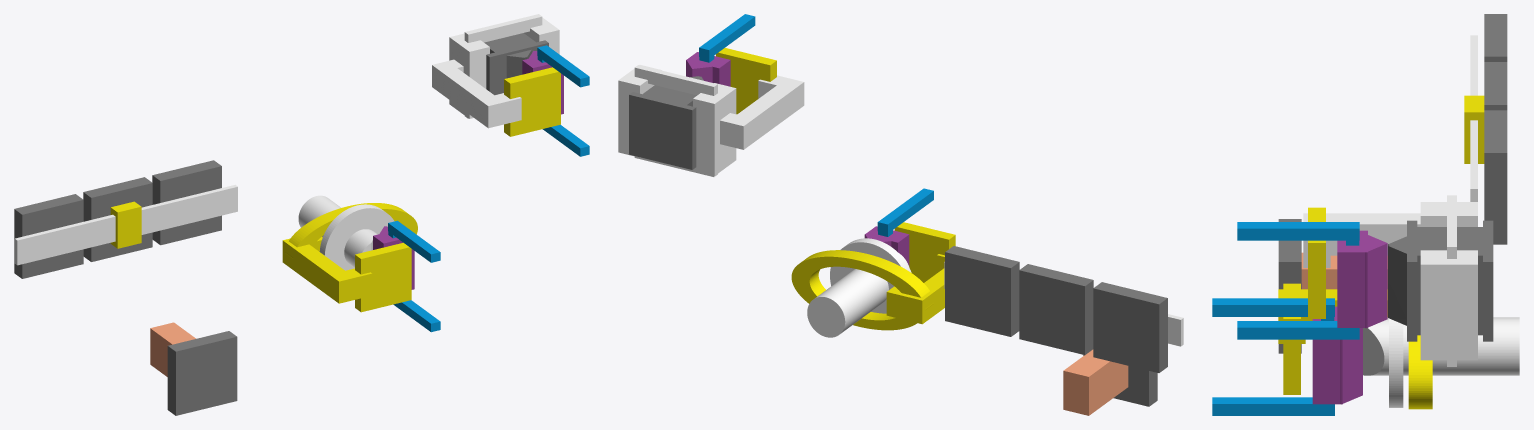
Rendered from stopper.obj.
The picture shows the model from 3 angles, left to right: view 1: azimuth 30°, elevation 25°; view 2: azimuth 150°, elevation 25°; view 3: azimuth 270°, elevation 25°; orthographic projection. The views are drawn at different scales.
Parts seen in each view (by area): view 1: Object.3, Object.7, Object.23, Object.5, Object.1, Object.21, Object.15, Object.11, Object.17, Object.4, Object.8, Object.22 (+9 smaller); view 2: Object.5, Object.4, Object.1, Object.23, Object.22, Object.10, Object.9, Object.21, Object.6, Object.17, Object.15, Object.11 (+6 smaller); view 3: Object.23, Object.22, Object.24, Object.9, Object.16, Object.1, Object.20, Object.19, Object.21, Object.13, Object.14, Object.17 (+12 smaller).
Part boxes in pixels (left/top/right/bottom): Object.3: left=14, top=184, right=237, bottom=265; Object.7: left=167, top=331, right=237, bottom=415; Object.23: left=449, top=14, right=559, bottom=118; Object.5: left=14, top=194, right=83, bottom=278; Object.1: left=152, top=160, right=221, bottom=245; Object.21: left=432, top=59, right=521, bottom=128; Object.15: left=282, top=237, right=372, bottom=303; Object.11: left=355, top=242, right=411, bottom=312; Object.17: left=504, top=67, right=560, bottom=136; Object.4: left=83, top=177, right=152, bottom=261; Object.8: left=319, top=204, right=394, bottom=270; Object.22: left=484, top=33, right=548, bottom=95; Object.5: left=1093, top=282, right=1167, bottom=372; Object.4: left=1019, top=264, right=1093, bottom=354; Object.1: left=945, top=246, right=1019, bottom=336; Object.23: left=618, top=65, right=736, bottom=176; Object.22: left=629, top=76, right=703, bottom=169; Object.10: left=791, top=250, right=933, bottom=330; Object.9: left=807, top=253, right=909, bottom=337; Object.21: left=720, top=75, right=804, bottom=149; Object.6: left=1063, top=349, right=1128, bottom=415; Object.17: left=716, top=48, right=776, bottom=114; Object.15: left=886, top=254, right=944, bottom=324; Object.11: left=894, top=222, right=955, bottom=282; Object.23: left=1420, top=195, right=1477, bottom=366; Object.22: left=1388, top=220, right=1493, bottom=341; Object.24: left=1337, top=230, right=1387, bottom=328; Object.9: left=1363, top=317, right=1519, bottom=375; Object.16: left=1312, top=306, right=1362, bottom=404; Object.1: left=1484, top=110, right=1507, bottom=244; Object.20: left=1237, top=222, right=1359, bottom=240; Object.19: left=1237, top=321, right=1359, bottom=339; Object.21: left=1303, top=213, right=1420, bottom=267; Object.13: left=1212, top=397, right=1334, bottom=415; Object.14: left=1212, top=298, right=1334, bottom=316; Object.17: left=1308, top=207, right=1325, bottom=318.
Size of the model in its own units: 342 by 157 by 121.
